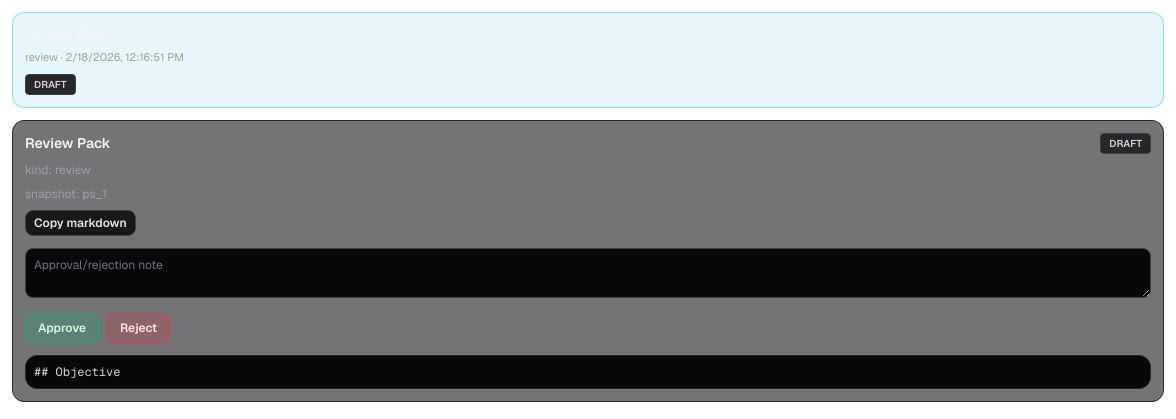
AgentPacksPanel › approving a draft updates status badge
Step 1. Type "Looks good" into the text box with test id "agent-pack-note-input" → [588, 272], box [25,248,1151,298]
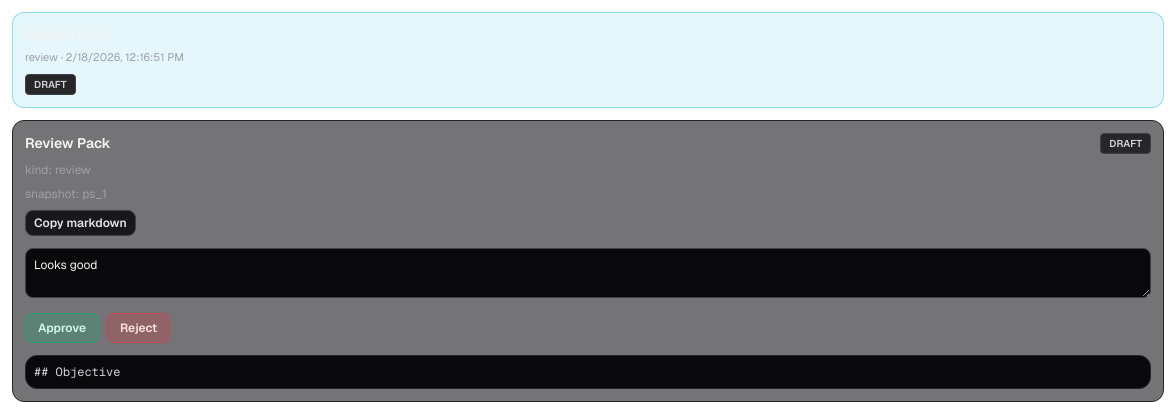
Step 2. Click the button with test id "agent-pack-approve" → [62, 328], box [25,312,99,342]
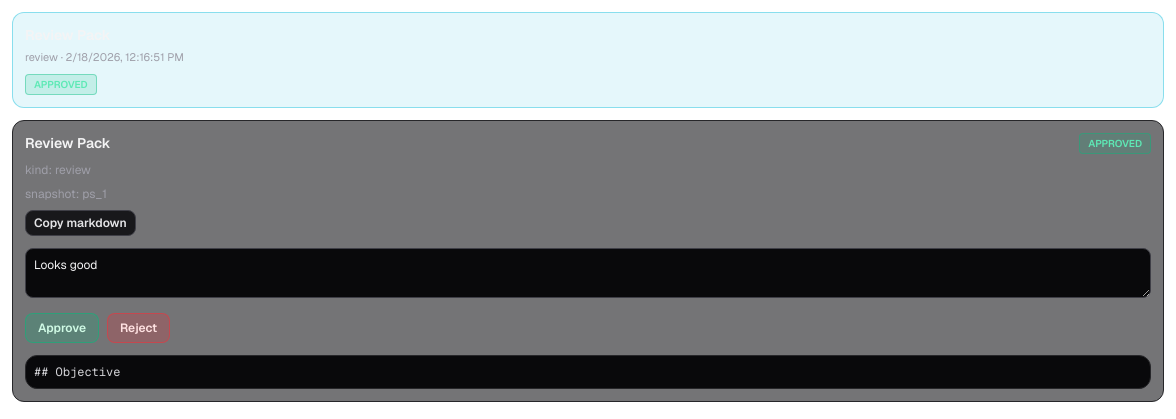
Expected: the text with test id "agent-pack-status-badge" reads "approved", [1088,136,1142,150]
